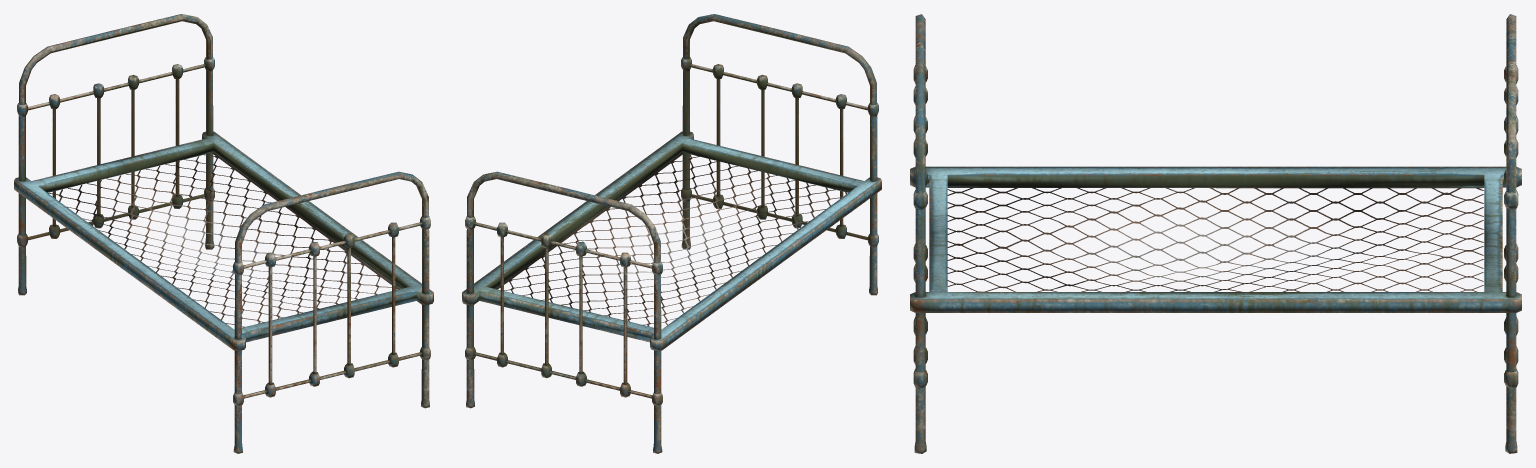
The model's file is Bed.fbx.
3 renders of one model, left to right at view 1: azimuth 30°, elevation 25°; view 2: azimuth 150°, elevation 25°; view 3: azimuth 270°, elevation 25°, orthographic. The views are drawn at different scales.
Parts seen in each view (by area): view 1: Metal_Bed; view 2: Metal_Bed; view 3: Metal_Bed.
Boxes of the visible parts, x1,y1,x2,y2 form: Metal_Bed: (14,14,433,453); Metal_Bed: (462,14,881,453); Metal_Bed: (910,14,1521,453).
Size of the model in its own units: 269 by 309 by 520.
1 material, 1 textured.
